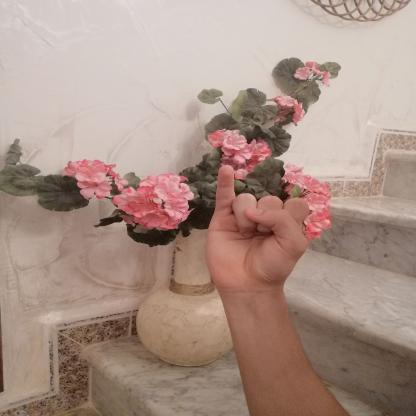MEEM: (190, 154, 322, 301)
